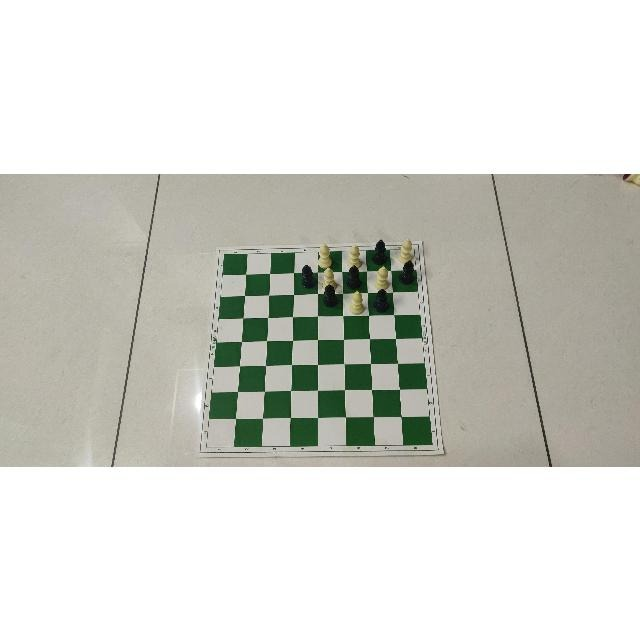black-bishop: (346, 263, 362, 288), (372, 237, 387, 263), (301, 263, 317, 287), (373, 288, 389, 312), (399, 259, 414, 284), (324, 284, 339, 306)
white-bishop: (316, 239, 333, 266), (347, 243, 362, 268), (374, 264, 389, 289), (399, 238, 414, 262), (349, 290, 364, 313), (322, 267, 337, 289)
